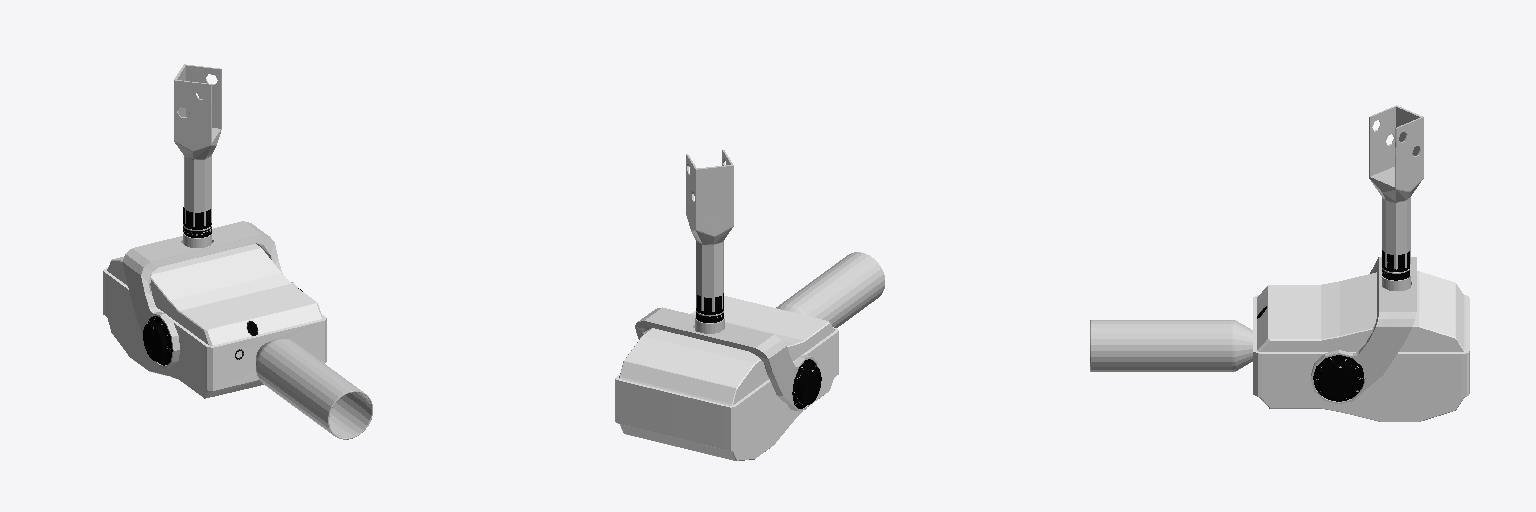
3 renders of one model, left to right at view 1: azimuth 30°, elevation 25°; view 2: azimuth 150°, elevation 25°; view 3: azimuth 270°, elevation 25°, orthographic.
Visible parts, largest first — view 1: hainuo_dental_xray_unit_fixer7.1; view 2: hainuo_dental_xray_unit_fixer7.1; view 3: hainuo_dental_xray_unit_fixer7.1.
Part boxes in pixels (x1,y1,x2,y2): hainuo_dental_xray_unit_fixer7.1: (103,64,372,439); hainuo_dental_xray_unit_fixer7.1: (615,150,884,460); hainuo_dental_xray_unit_fixer7.1: (1090,105,1469,421).
Size of the model in its own units: 1.68 by 3.03 by 3.75.
Materials: 4 (2 with a texture image).